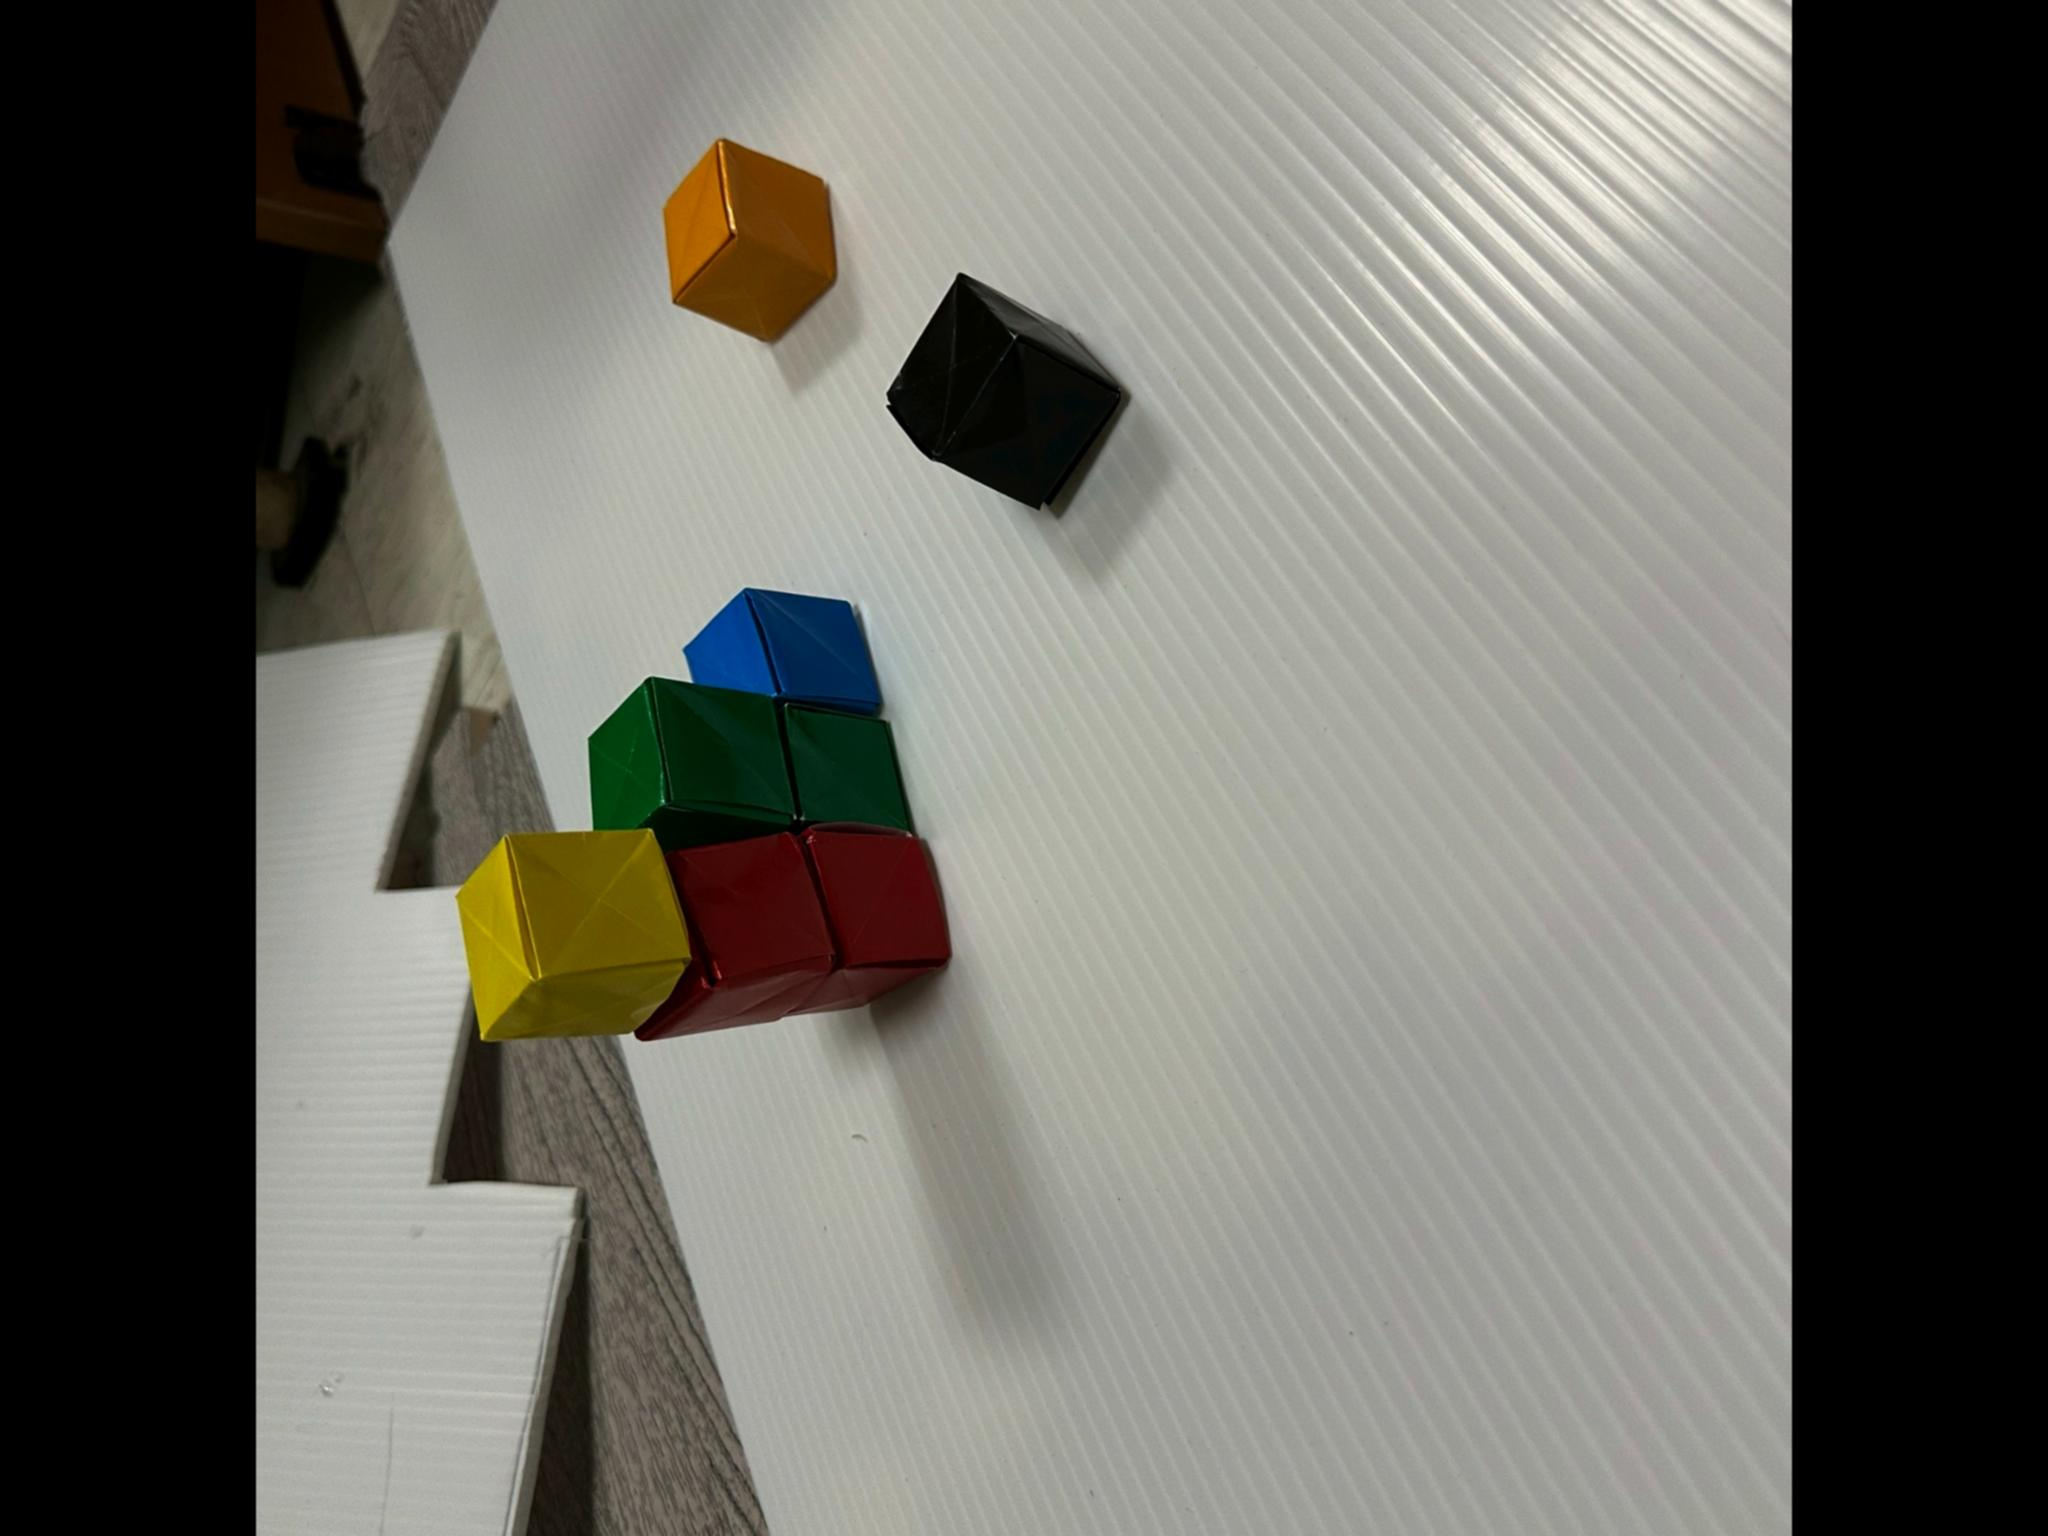base: (889, 274, 1129, 508), (458, 828, 690, 1037), (637, 833, 834, 1039), (589, 676, 795, 849), (664, 140, 835, 340), (780, 824, 950, 1013), (684, 587, 880, 715), (784, 703, 910, 831)
